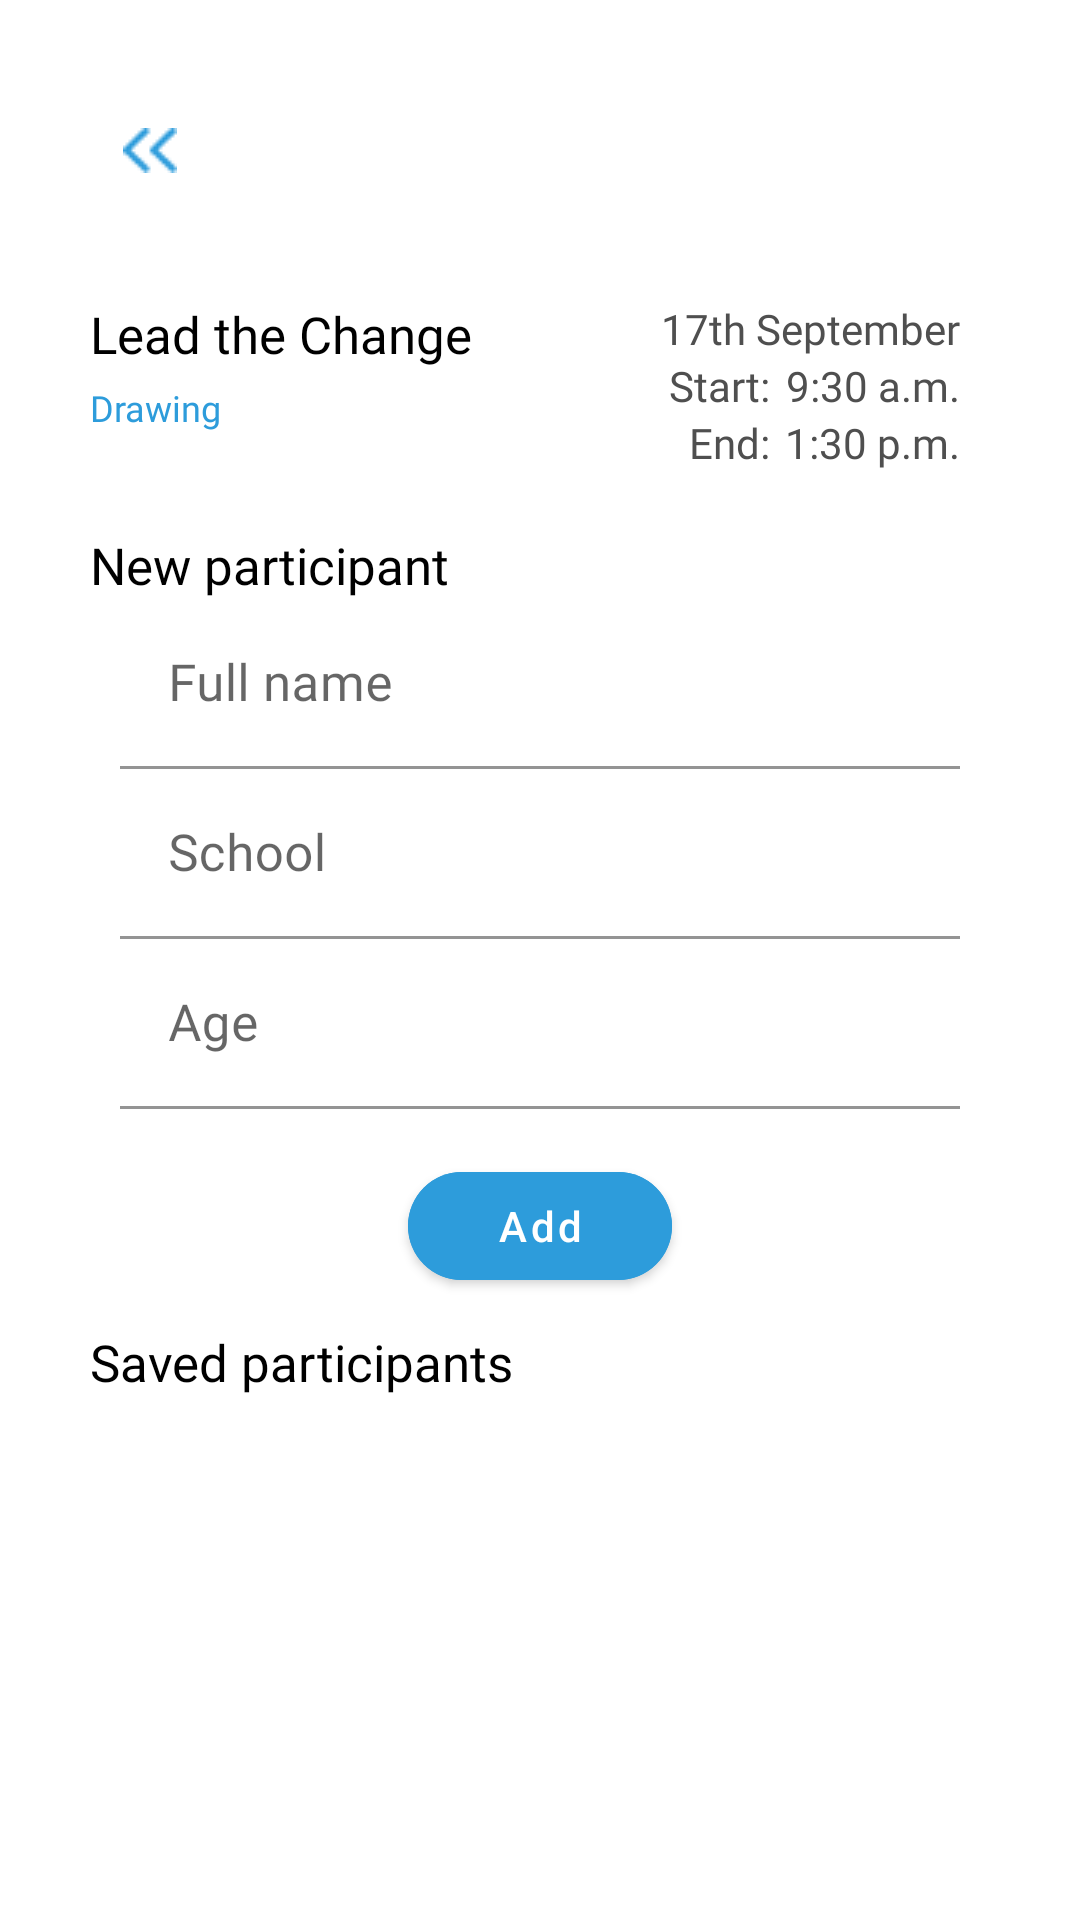

Icons on this 1080w x 1920h Android screen, each with its box as bbox=(x1, y1, x2, y2):
back: bbox=(123, 128, 177, 173)
